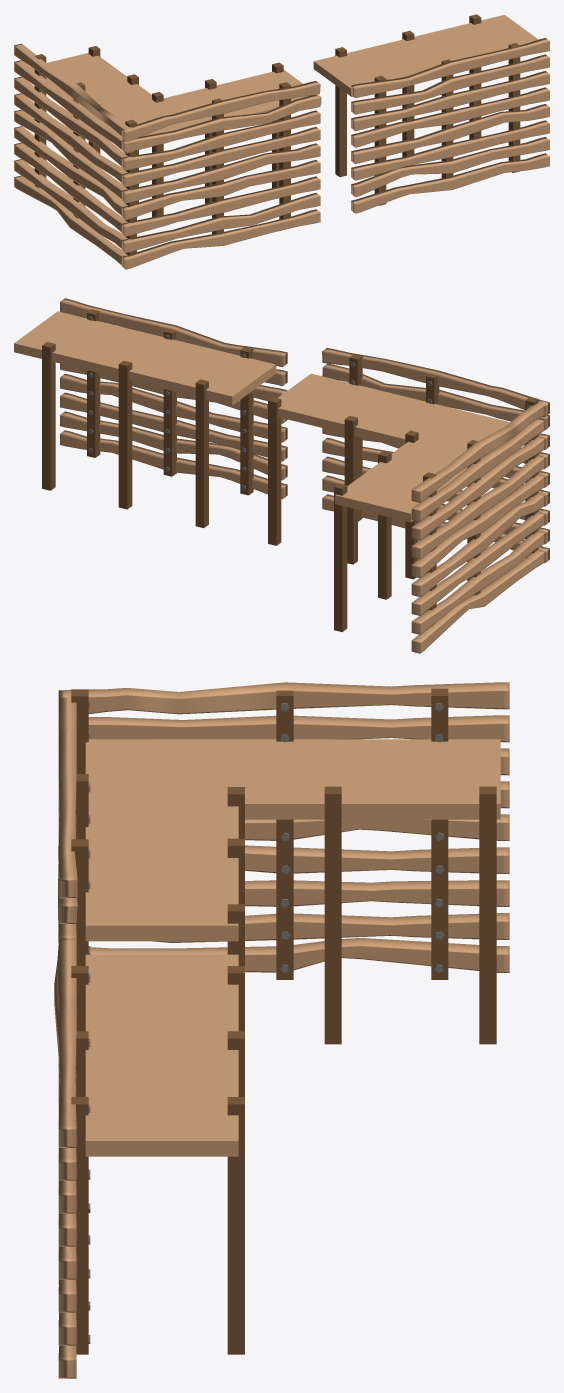
File: Fence.fbx
3 views of the same model, one above another, from view 1: azimuth 30°, elevation 25°; view 2: azimuth 150°, elevation 25°; view 3: azimuth 270°, elevation 25° (orthographic). The views are drawn at different scales.
Parts seen in each view (by area): view 1: Fence, Fence.001; view 2: Fence, Fence.001; view 3: Fence, Fence.001.
Boxes of the visible parts, box(x1,y1,x2,y2) form: Fence: box(14, 43, 321, 269); Fence.001: box(313, 14, 549, 213); Fence: box(267, 348, 549, 653); Fence.001: box(14, 298, 287, 527); Fence: box(54, 682, 509, 1055); Fence.001: box(58, 938, 244, 1378).
Bounding box in the file's own units: 1027 × 330 × 477.
